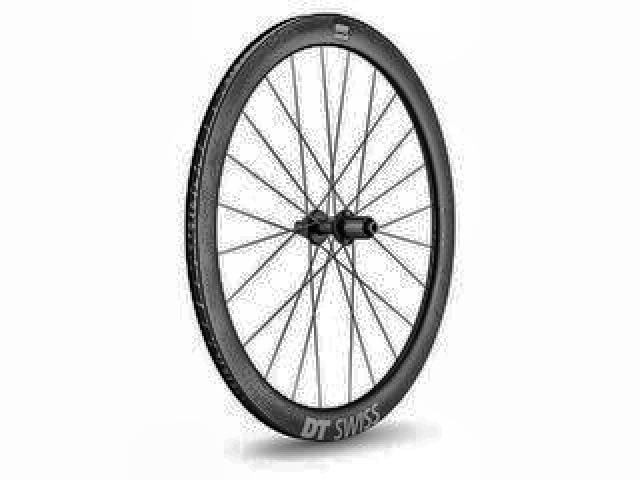wheel: (182, 9, 463, 446)
